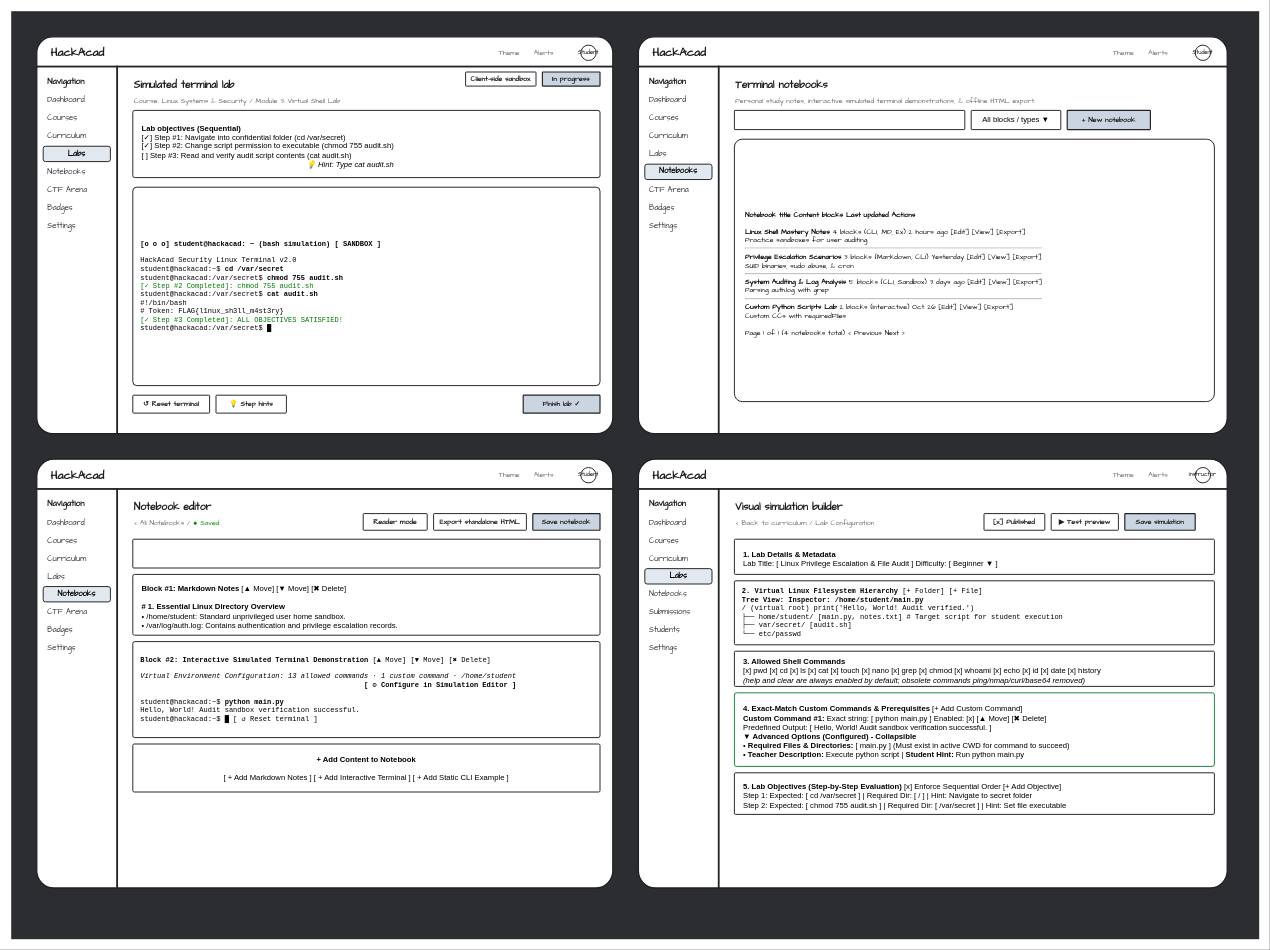
Image size: 1270x950. Some labels were removed from this diagram. Here are the shapes that lost their labels. From the top down, the box of each, then its label:
(734, 110, 965, 130): Search personal notebooks...
(132, 538, 600, 568): NOTEBOOK TITLE: Linux Shell Mastery Notes [ PERSONAL NOTEBOOK ]
